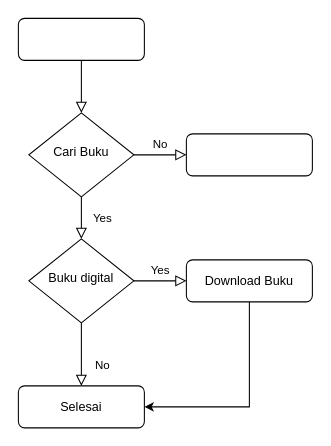
The diagram is 331 pixels wide and 446 high, and some of its shapes have lost their labels. Here are the shapes that lost their labels. From the top down, the centre of each, then its label:
At point 80,38: "Start".
At point 248,154: "Tidak ada buku yang dicari".
